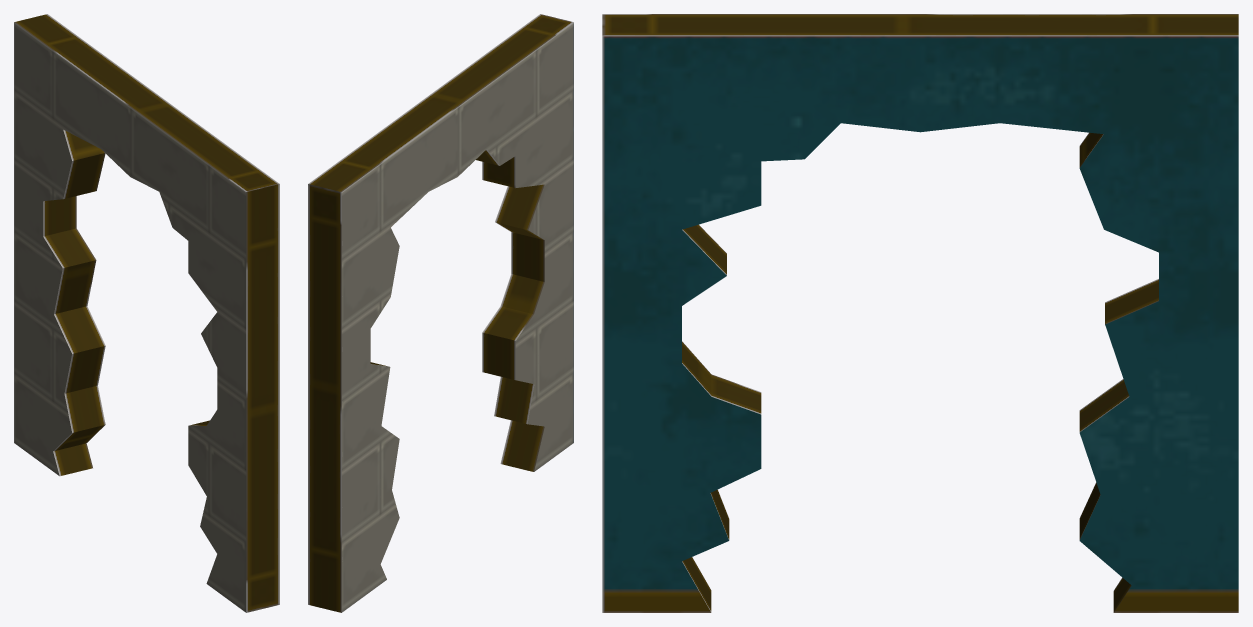
The model's file is Wall_Broken_09.fbx.
The picture shows the model from 3 angles, left to right: view 1: azimuth 30°, elevation 25°; view 2: azimuth 150°, elevation 25°; view 3: azimuth 270°, elevation 25°; orthographic projection. The views are drawn at different scales.
Parts seen in each view (by area): view 1: Wall_Broken_09; view 2: Wall_Broken_09; view 3: Wall_Broken_09.
Boxes of the visible parts, <box> form: Wall_Broken_09: <box>14,14,279,612</box>; Wall_Broken_09: <box>308,14,573,612</box>; Wall_Broken_09: <box>602,14,1238,612</box>.
Bounding box in the file's own units: 50 × 600 × 600.
